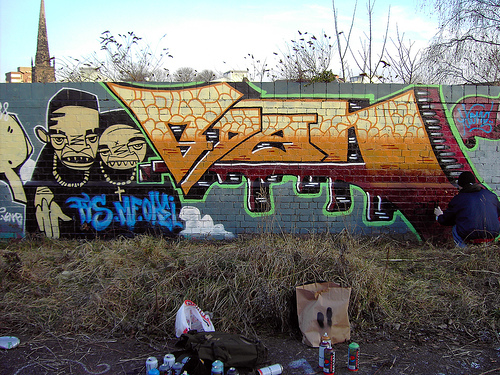graffiti: (96, 80, 489, 241), (23, 86, 185, 238), (66, 193, 183, 230), (1, 104, 38, 206), (452, 102, 494, 138), (1, 206, 27, 225)
graffiti_area: (1, 82, 500, 242)
